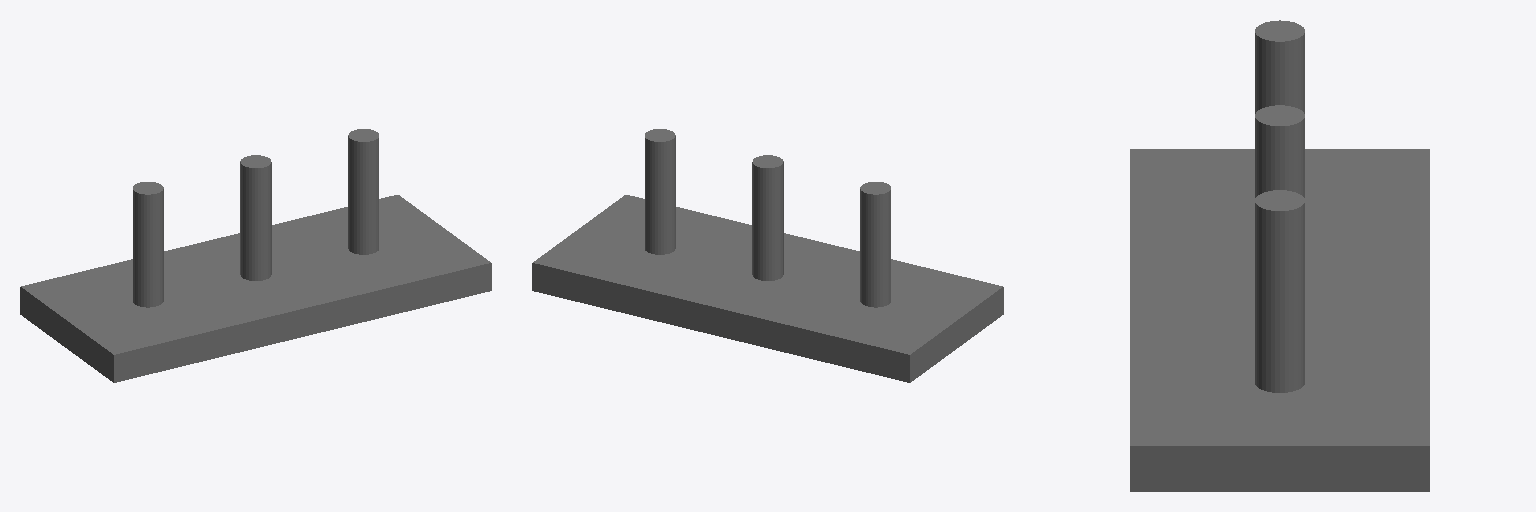
robot.urdf — tower:
<?xml version="1.0" ?>
<robot name="tower" xmlns:xacro="http://ros.org/wiki/xacro">
  <material name="gray">
    <color rgba="0.5 0.5 0.5 1"/>
  </material>
  <link name="tower_base_link">
    <visual>
      <origin rpy="0 0 0" xyz="0 0 0"/>
      <geometry>
        <mesh filename="package://tower_of_hanoi/base.stl" scale="0.1 0.1 0.1"/>
      </geometry>
      <material name="gray"/>
    </visual>
    <collision>
      <origin rpy="0 0 0" xyz="0 0 -0.04"/>
      <geometry>
        <box size="0.7 0.3 0.05"/>
      </geometry>
    </collision>
    <collision>
      <origin rpy="0 0 0" xyz="0 0 0.08625"/>
      <geometry>
        <cylinder length="0.2" radius="0.025"/>
      </geometry>
    </collision>
    <collision>
      <origin rpy="0 0 0" xyz="0.2 0 0.08625"/>
      <geometry>
        <cylinder length="0.2" radius="0.025"/>
      </geometry>
    </collision>
    <collision>
      <origin rpy="0 0 0" xyz="-0.2 0 0.08625"/>
      <geometry>
        <cylinder length="0.2" radius="0.025"/>
      </geometry>
    </collision>
    <inertial>
      <!-- CENTER OF MASS -->
      <origin rpy="0 0 0" xyz="0 0 0.02725"/>
      <mass value="0.2"/>
      <!-- box inertia: 1/12*m(y^2+z^2), ... -->
      <inertia ixx="0.000267245666667" ixy="0" ixz="0" iyy="0.000267245666667" iyz="0" izz="0.000435483"/>
    </inertial>
  </link>

  <!-- Pole A -->
  <joint name="joint_poleA" type="fixed">
    <origin rpy="0 0 0" xyz="-0.2 0 0.18625"/>
    <parent link="tower_base_link"/>
    <child link="poleA"/>
  </joint>
  <link name="poleA">
    <!-- dummy inertial params -->
    <inertial>
      <origin rpy="0 0 0" xyz="0 0 0"/>
      <mass value="1e-8"/>
      <inertia ixx="1e-12" ixy="0" ixz="0" iyy="1e-12" iyz="0" izz="1e-12"/>
    </inertial>
  </link>

  <!-- Pole B -->
  <joint name="joint_poleB" type="fixed">
    <origin rpy="0 0 0" xyz="0 0 0.18625"/>
    <parent link="tower_base_link"/>
    <child link="poleB"/>
  </joint>
  <link name="poleB">
    <!-- dummy inertial params -->
    <inertial>
      <origin rpy="0 0 0" xyz="0 0 0"/>
      <mass value="1e-8"/>
      <inertia ixx="1e-12" ixy="0" ixz="0" iyy="1e-12" iyz="0" izz="1e-12"/>
    </inertial>
  </link>

  <!-- Pole C -->
  <joint name="joint_poleC" type="fixed">
    <origin rpy="0 0 0" xyz="0.2 0 0.18625"/>
    <parent link="tower_base_link"/>
    <child link="poleC"/>
  </joint>
  <link name="poleC">
    <!-- dummy inertial params -->
    <inertial>
      <origin rpy="0 0 0" xyz="0 0 0"/>
      <mass value="1e-8"/>
      <inertia ixx="1e-12" ixy="0" ixz="0" iyy="1e-12" iyz="0" izz="1e-12"/>
    </inertial>
  </link>
</robot>

--- Facts derived from the render (not from the file) ---
Views: 3 orthographic renders of the robot side by side, from view 1: azimuth 30°, elevation 25°; view 2: azimuth 150°, elevation 25°; view 3: azimuth 270°, elevation 25°.
Model tower with 4 links and 3 joints (3 fixed), rooted at tower_base_link, posed every joint at zero.
Links seen in each view (by area): view 1: tower_base_link; view 2: tower_base_link; view 3: tower_base_link.
Link boxes in pixels (x1,y1,x2,y2): tower_base_link: (20,129,491,382); tower_base_link: (532,129,1003,382); tower_base_link: (1130,20,1429,491).
Bounding box of the posed robot: 0.7 × 0.3 × 0.25 m (x, y, z).
Meshes: 1 distinct files referenced, 1 mesh visuals loaded (1 binary STL).